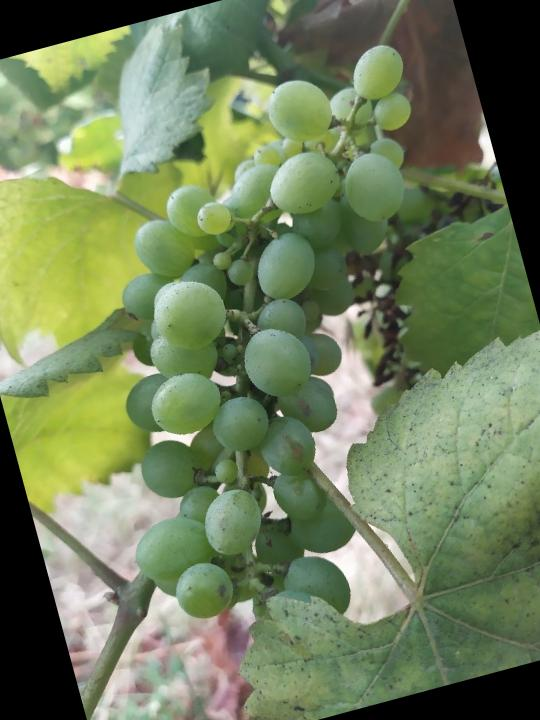grape: (19, 36, 540, 664)
